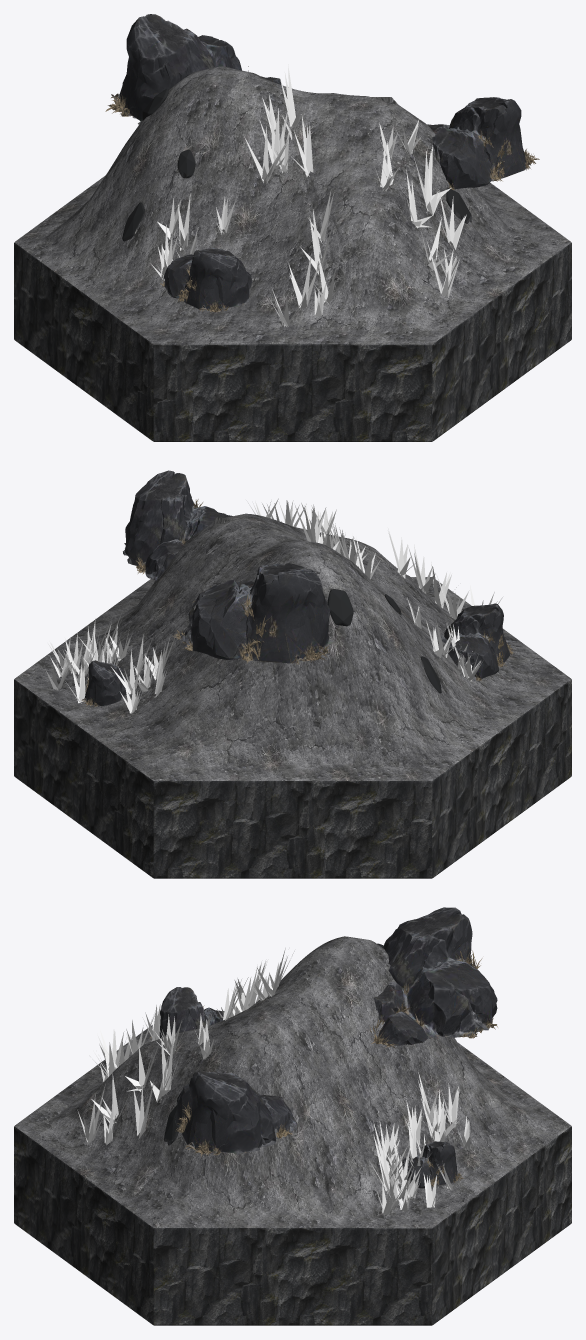
Rendered from hills.glb.
3 views of the same model, one above another, from view 1: azimuth 30°, elevation 25°; view 2: azimuth 150°, elevation 25°; view 3: azimuth 270°, elevation 25° (orthographic).
Parts seen in each view (by area): view 1: Hills tile, Boulder 0, Boulder 1, Boulder 2; view 2: Hills tile, Boulder 0, Boulder 1, Boulder 2, Boulder 3; view 3: Hills tile, Boulder 0, Boulder 1, Boulder 2, Boulder 3.
Boxes of the visible parts, x1,y1,x2,y2 form: Hills tile: (14,64,571,441); Boulder 0: (105,14,281,124); Boulder 1: (427,97,539,189); Boulder 2: (160,247,252,312); Hills tile: (14,498,571,878); Boulder 0: (172,563,334,664); Boulder 1: (123,470,232,580); Boulder 2: (440,603,514,681); Boulder 3: (81,660,128,706); Hills tile: (14,936,571,1325); Boulder 0: (369,907,497,1048); Boulder 1: (175,1070,296,1156); Boulder 2: (149,987,224,1039); Boulder 3: (402,1141,463,1188).
Bounding box in the file's own units: 1.7 × 1.09 × 1.96.
Materials: 4 (3 with a texture image).
